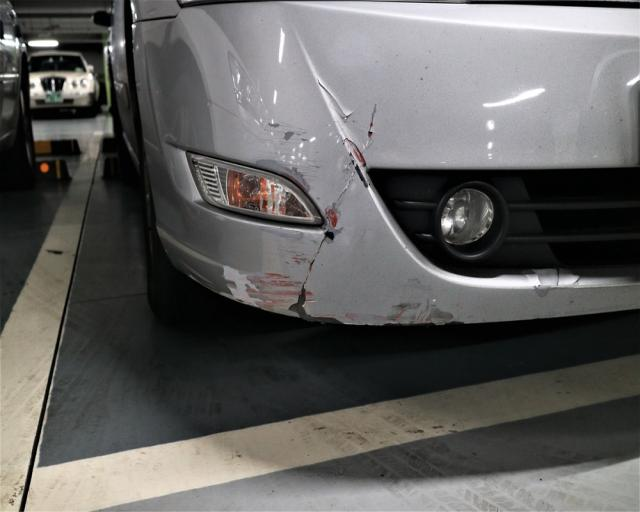crack: (297, 161, 358, 324)
scratch: (185, 248, 311, 319), (254, 115, 322, 192), (383, 274, 458, 325)
